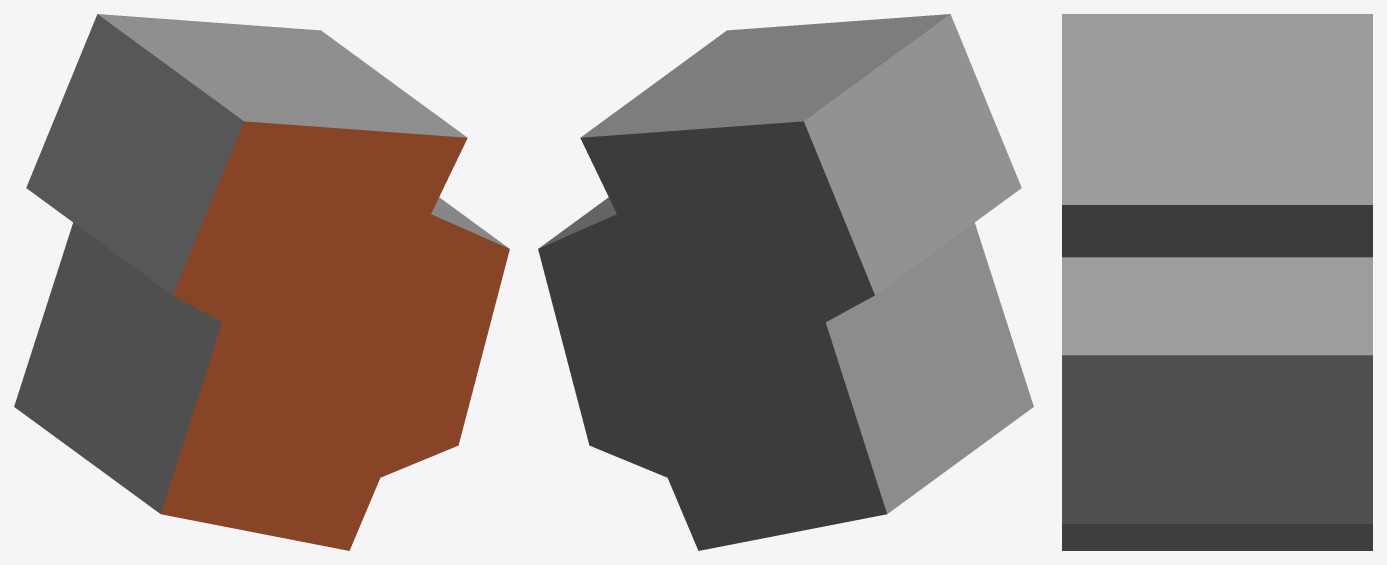
The model's file is construction_3610_assumed_A_Casa_h6m.obj.
3 renders of one model, left to right at view 1: azimuth 30°, elevation 25°; view 2: azimuth 150°, elevation 25°; view 3: azimuth 270°, elevation 25°, orthographic. The views are drawn at different scales.
Visible parts, largest first — view 1: construction_3610_assumed_A_Casa; view 2: construction_3610_assumed_A_Casa; view 3: construction_3610_assumed_A_Casa.
Boxes of the visible parts, x1,y1,x2,y2 form: construction_3610_assumed_A_Casa: (14,14,509,550); construction_3610_assumed_A_Casa: (538,14,1033,550); construction_3610_assumed_A_Casa: (1062,14,1372,550).
Size of the model in its own units: 8.25 by 10.27 by 6.
